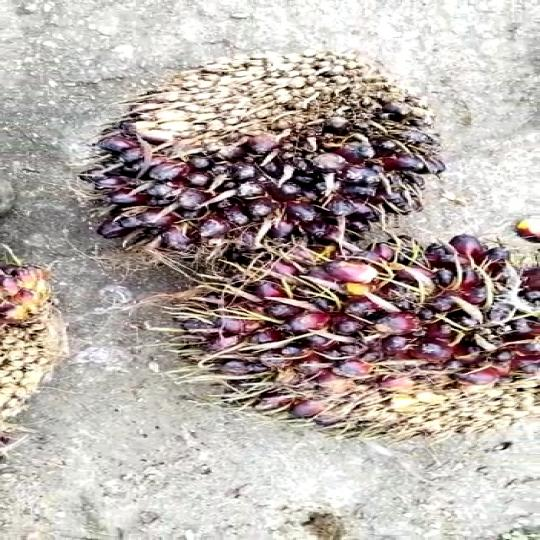kurang masak: (170, 228, 536, 444), (93, 44, 436, 266)
